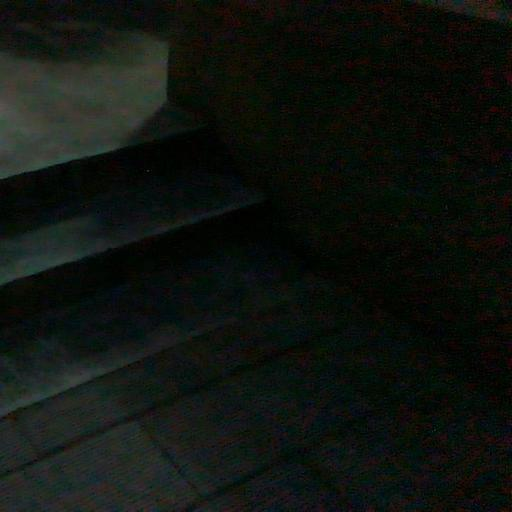stairs: (0, 131, 505, 511), (0, 130, 263, 323)
